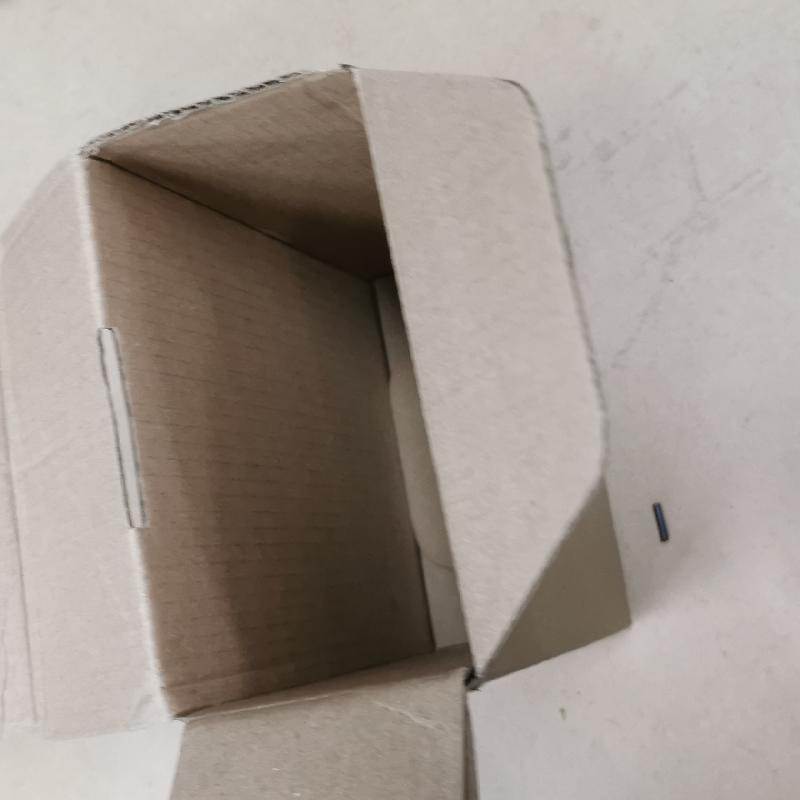boxes: (14, 65, 637, 800)
